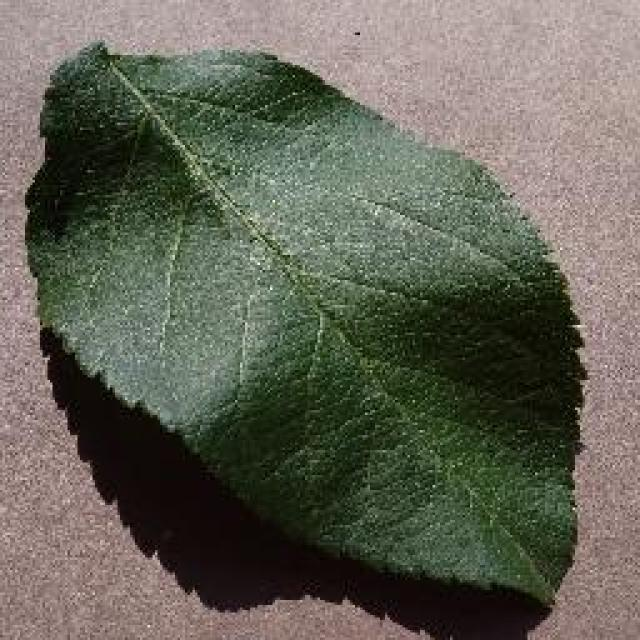apple healthy: (20, 38, 590, 610)
